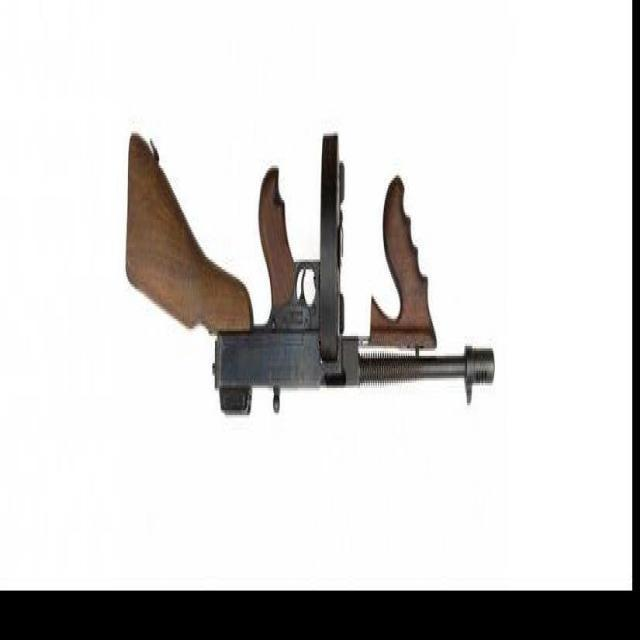weapon: (124, 128, 494, 420)
